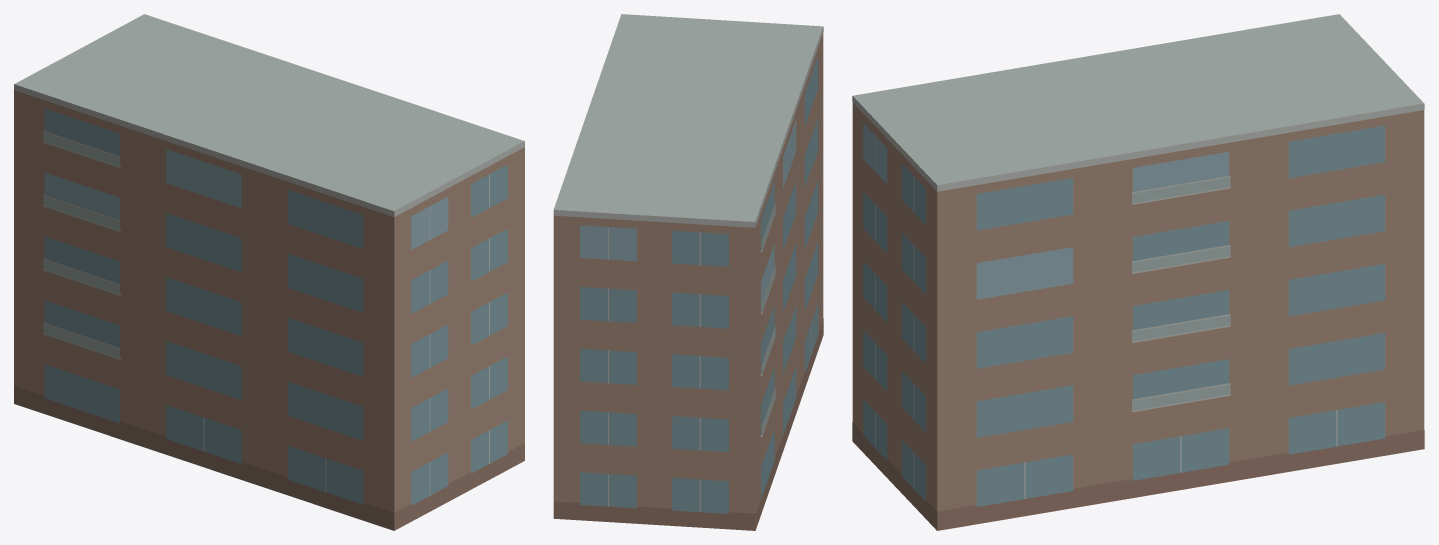
Rendered from survey-upis-32570302.glb.
The picture shows the model from 3 angles, left to right: view 1: azimuth 30°, elevation 25°; view 2: azimuth 150°, elevation 25°; view 3: azimuth 270°, elevation 25°; orthographic projection. The views are drawn at different scales.
Parts seen in each view (by area): view 1: survey-upis-32570302.tmp; view 2: survey-upis-32570302.tmp; view 3: survey-upis-32570302.tmp.
Part boxes in pixels (x1,y1,x2,y2): survey-upis-32570302.tmp: [14, 14, 524, 530]; survey-upis-32570302.tmp: [553, 14, 823, 530]; survey-upis-32570302.tmp: [852, 14, 1424, 530].
Bounding box in the file's own units: 13.94 × 13.1 × 19.66.
